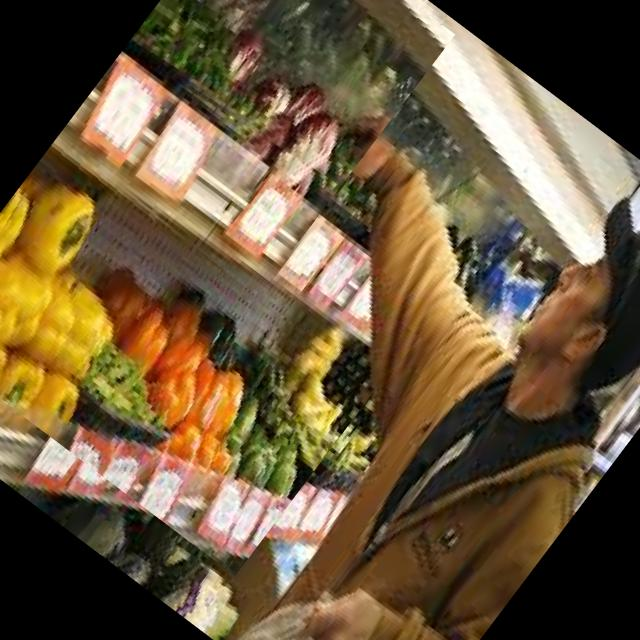Organic: (0, 134, 383, 576), (124, 0, 455, 202), (77, 494, 251, 640)
